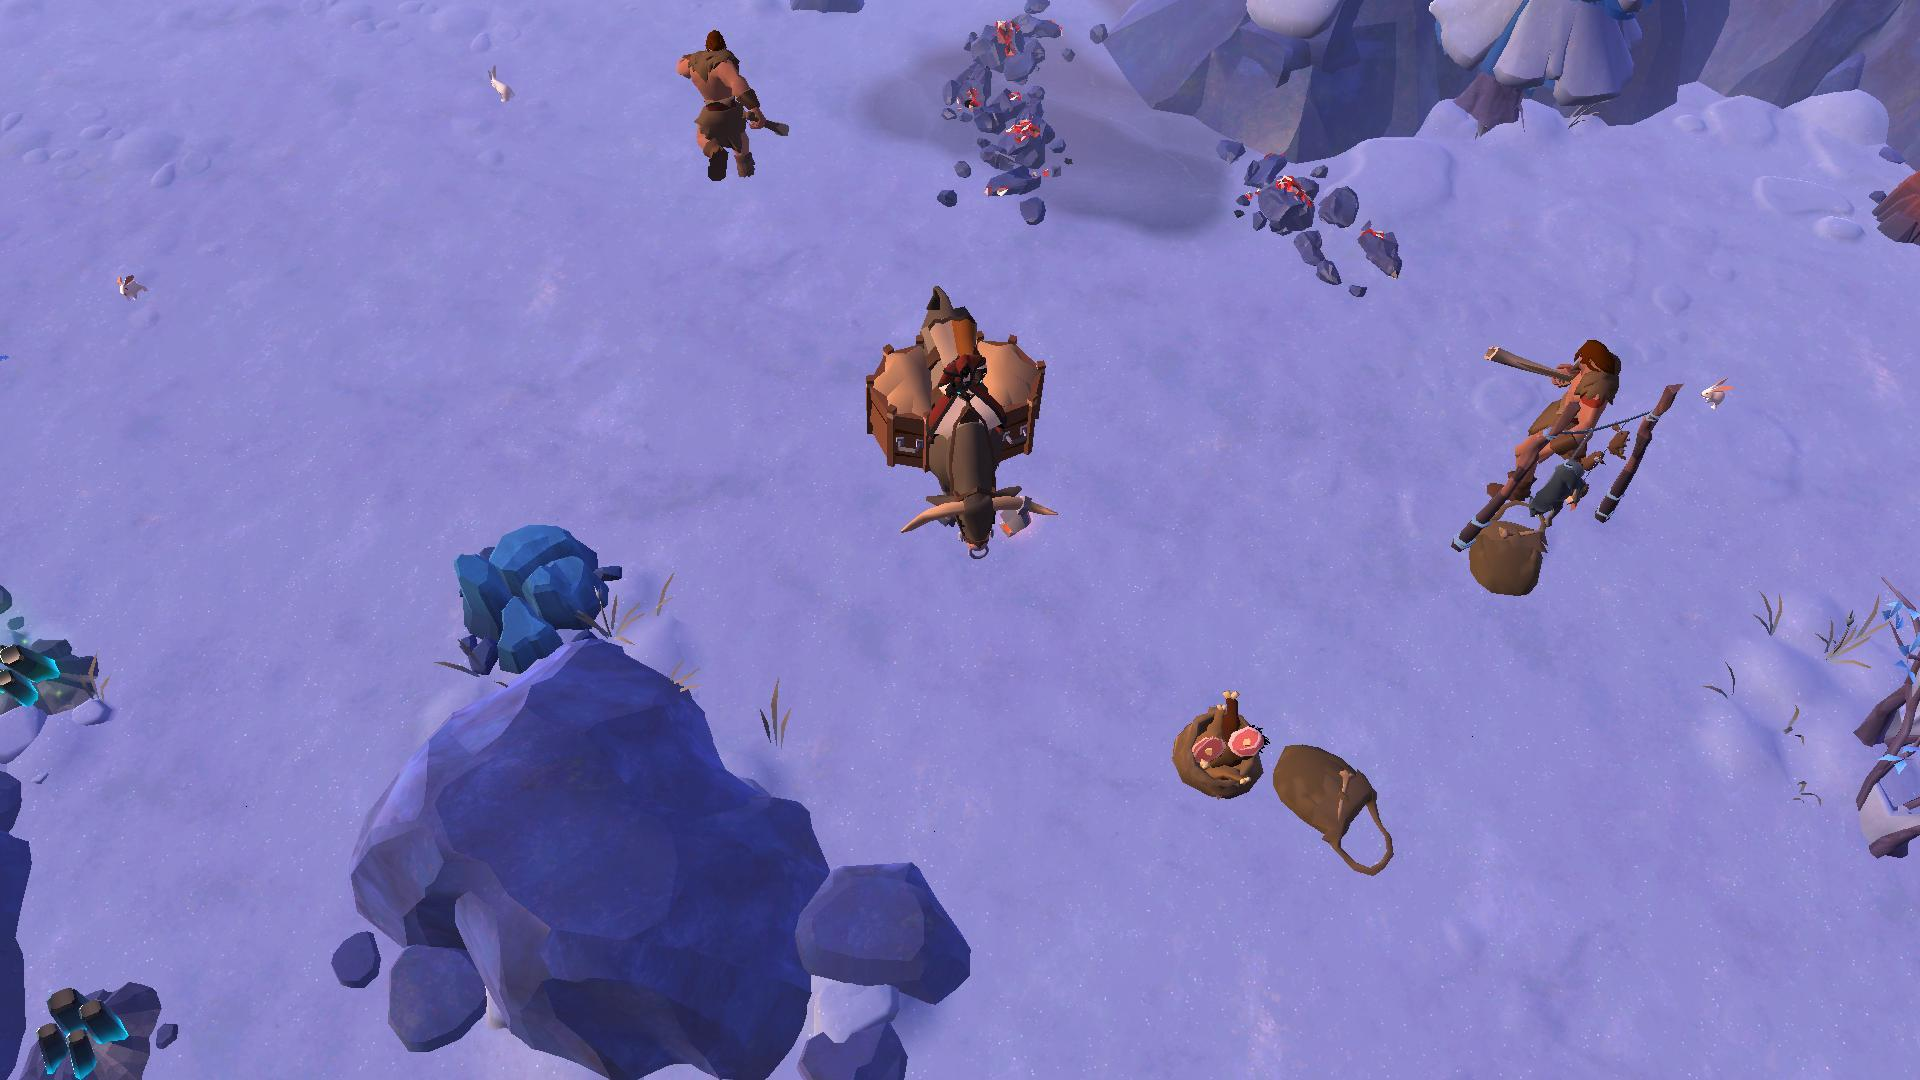enemy_factionKeeper: (1491, 330, 1617, 471), (682, 32, 779, 178)
ore_t4: (32, 977, 124, 1076), (0, 637, 57, 716)
rock_t4: (442, 516, 620, 663)
